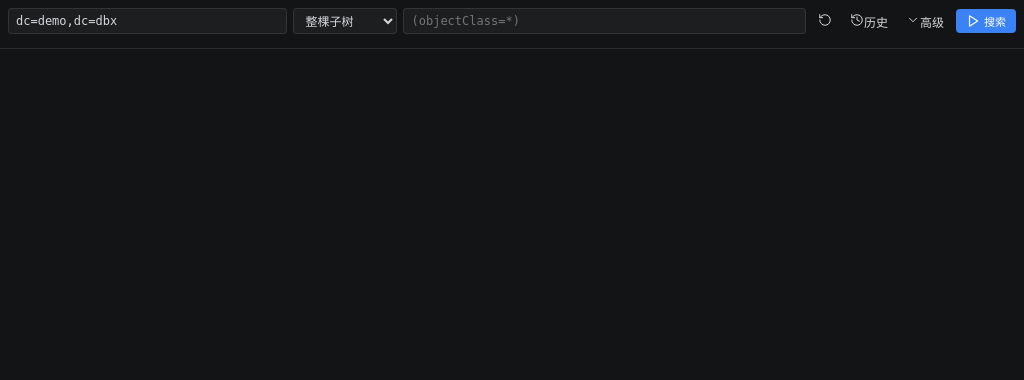
Test: SearchForm collapsed quick bar › expands via the toggle button on the compact bar
Click the button with class "compact-toggle" at (925, 21), box [900,9,950,33]
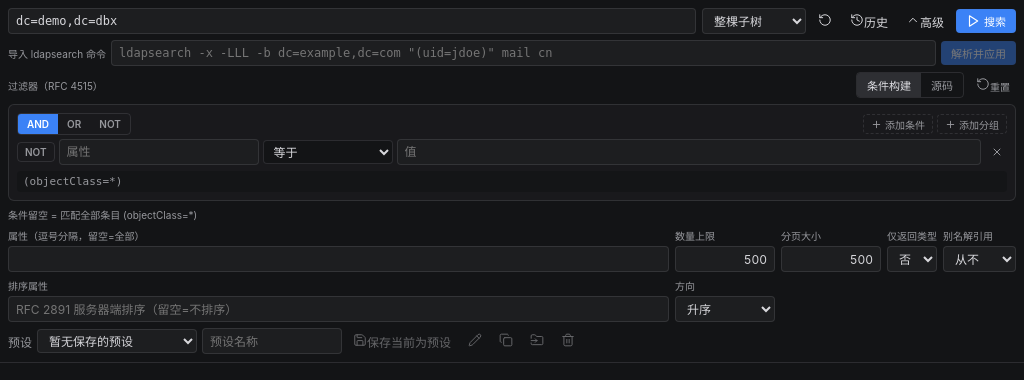
Expected: the element with class "search-form-compact" is shown, [8,8,1016,34]
Result: the text "(objectClass=*)" is shown at [17,171,1007,192]
Result: the element with class "search-presets" is shown at [8,328,581,354]
